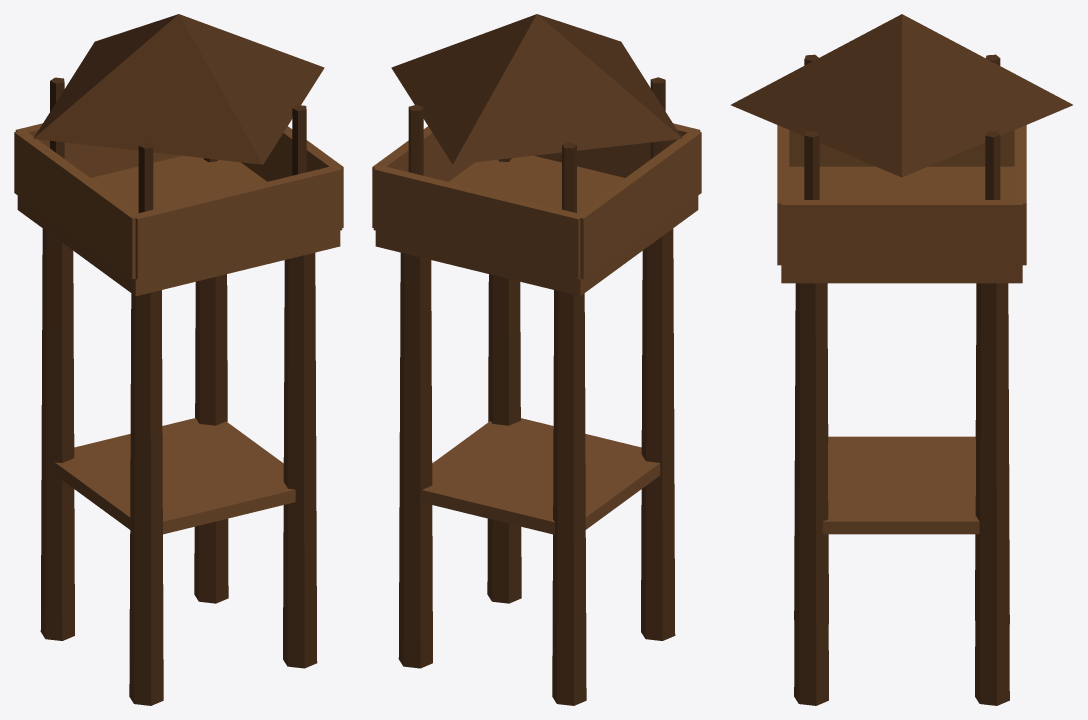
File: human_tower.glb
3 renders of one model, left to right at view 1: azimuth 30°, elevation 25°; view 2: azimuth 150°, elevation 25°; view 3: azimuth 270°, elevation 25°, orthographic. The views are drawn at different scales.
Visible parts, largest first — view 1: human_tower; view 2: human_tower; view 3: human_tower.
Part boxes in pixels (box(x1,y1,x2,y2)): human_tower: box(14, 14, 343, 705); human_tower: box(372, 14, 701, 705); human_tower: box(731, 14, 1072, 705).
Size of the model in its own units: 1.71 by 3.55 by 1.71.
